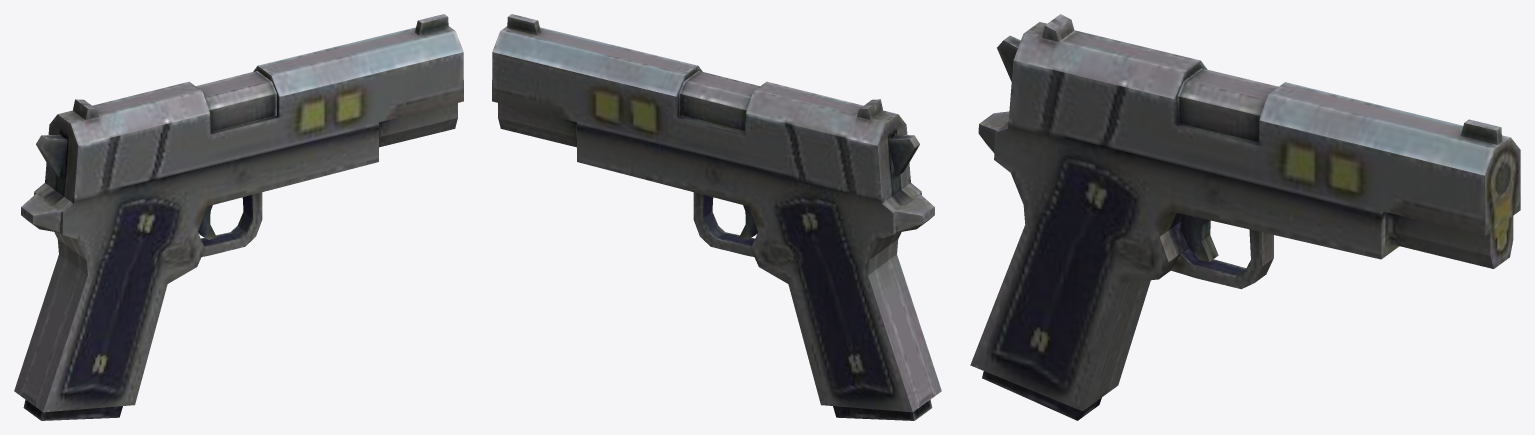
The model's file is basegun_d.glb.
The picture shows the model from 3 angles, left to right: view 1: azimuth 30°, elevation 25°; view 2: azimuth 150°, elevation 25°; view 3: azimuth 330°, elevation 25°; orthographic projection. The views are drawn at different scales.
Visible parts, largest first — view 1: SM_BaseGun_D_LOD0; view 2: SM_BaseGun_D_LOD0; view 3: SM_BaseGun_D_LOD0.
Boxes of the visible parts, x1,y1,x2,y2 form: SM_BaseGun_D_LOD0: [14, 14, 463, 420]; SM_BaseGun_D_LOD0: [492, 14, 941, 420]; SM_BaseGun_D_LOD0: [970, 14, 1520, 420].
Bounding box in the file's own units: 0.3085 × 0.2193 × 0.0367.
Materials: 1 (1 with a texture image).
